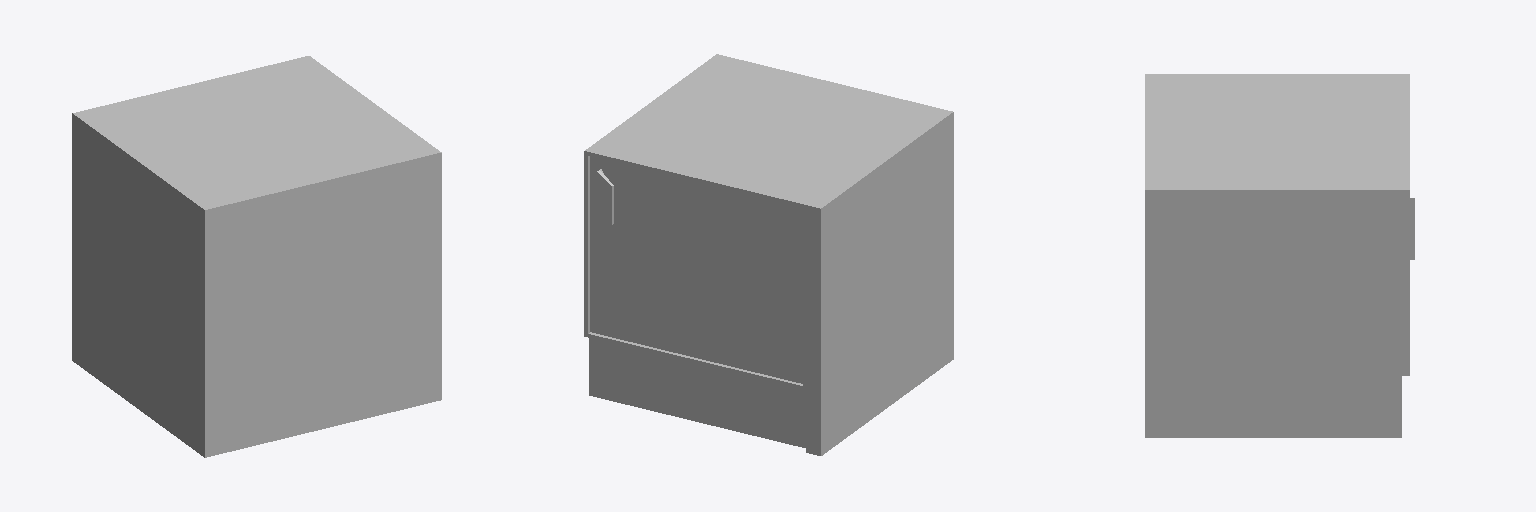
The model's file is placard_bas.obj.
3 views of the same model, side by side, from view 1: azimuth 30°, elevation 25°; view 2: azimuth 150°, elevation 25°; view 3: azimuth 270°, elevation 25° (orthographic).
Parts seen in each view (by area): view 1: cube, cube.002; view 2: cube, cube.002, poignée; view 3: cube, cube.002.
Part boxes in pixels (left/top/right/bottom): cube: left=72, top=59, right=441, bottom=457; cube.002: left=88, top=56, right=312, bottom=112; cube: left=589, top=54, right=953, bottom=455; cube.002: left=584, top=148, right=809, bottom=390; poignée: left=597, top=169, right=613, bottom=232; cube: left=1145, top=74, right=1409, bottom=437; cube.002: left=1402, top=82, right=1409, bottom=375.
Bounding box in the file's own units: 1 × 1 × 0.9844.